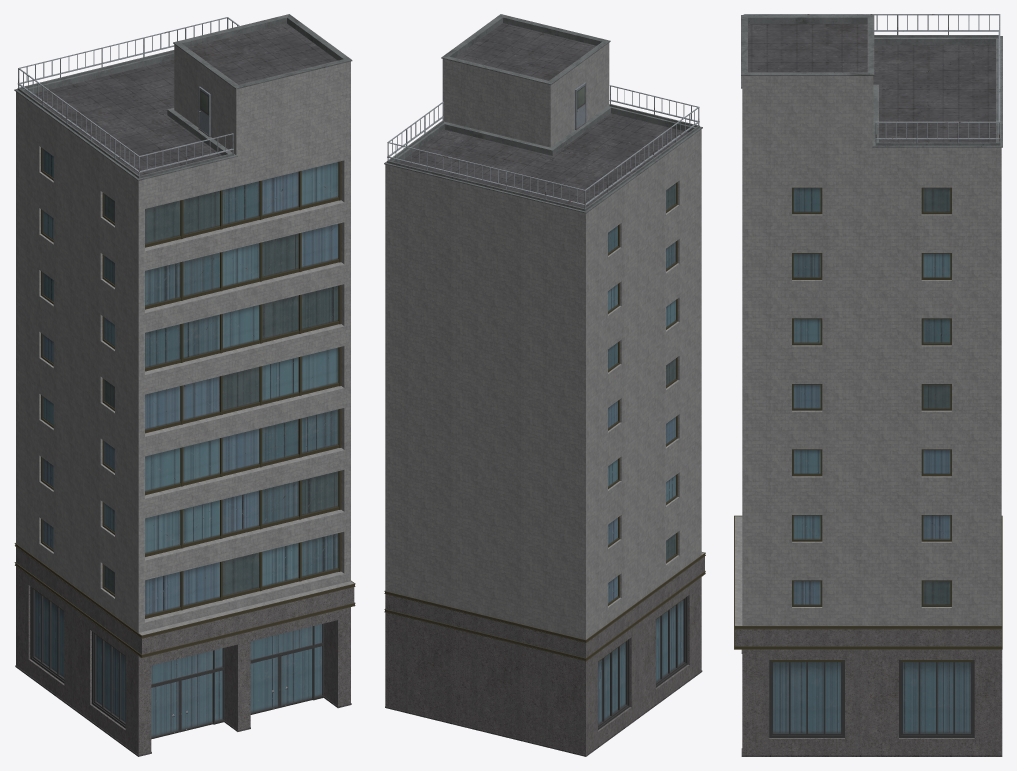
The model's file is jctBld12_D.fbx.
The picture shows the model from 3 angles, left to right: view 1: azimuth 30°, elevation 25°; view 2: azimuth 150°, elevation 25°; view 3: azimuth 270°, elevation 25°; orthographic projection. The views are drawn at different scales.
Visible parts, largest first — view 1: jctBld12_D_LOD0; view 2: jctBld12_D_LOD0; view 3: jctBld12_D_LOD0.
Boxes of the visible parts, x1,y1,x2,y2 form: jctBld12_D_LOD0: [14, 14, 355, 756]; jctBld12_D_LOD0: [384, 14, 705, 756]; jctBld12_D_LOD0: [734, 14, 1002, 756].
Size of the model in its own units: 1160 by 3335 by 1191.
